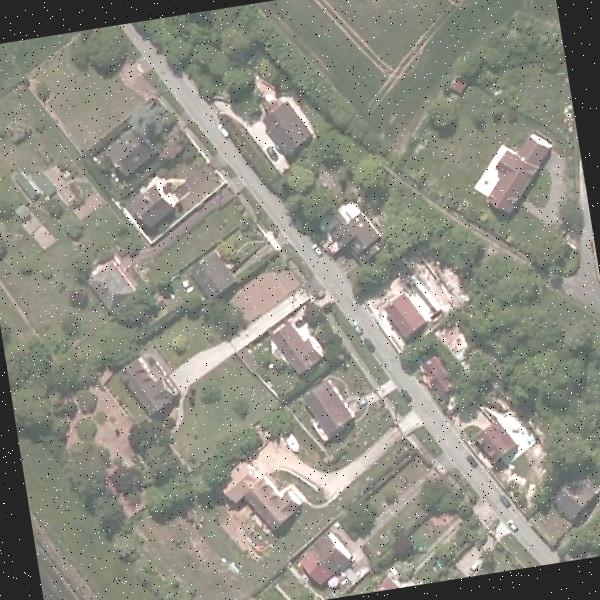Buildings: (470, 136, 558, 215), (124, 176, 198, 236), (228, 464, 295, 521), (384, 279, 439, 347), (318, 212, 388, 260), (126, 356, 179, 411), (304, 376, 356, 432), (298, 537, 351, 586), (266, 99, 312, 154), (277, 320, 318, 370), (190, 254, 234, 298), (90, 263, 133, 308), (110, 133, 154, 176), (477, 419, 513, 467), (554, 488, 597, 518), (421, 354, 448, 394)
